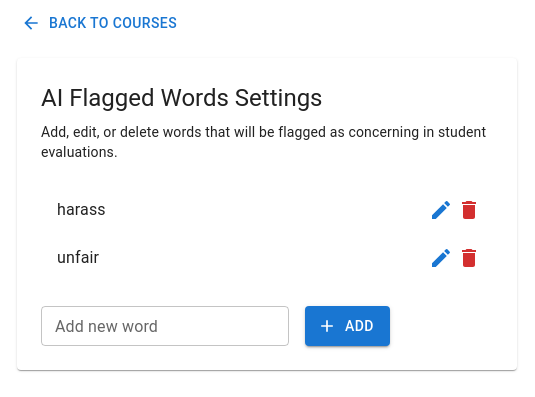
Scenario: Settings: flagged words › edits a word in place and saves it
The image size is (535, 397).
Expected: the text "unfair" is shown, [57,248,99,267]
Click the 4th button at (441, 258), box [421,238,461,278]
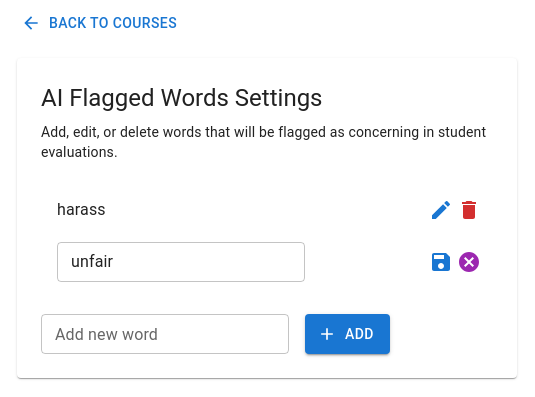
Replace the text in the field showing "unfair" with "unfairly" at (181, 262), box [57,242,305,282]
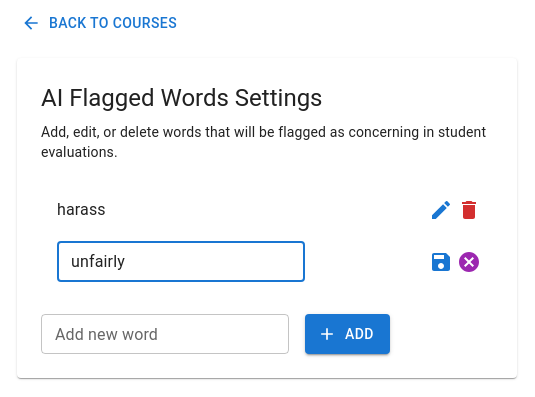
Click the 4th button at (441, 262), box [421,242,461,282]
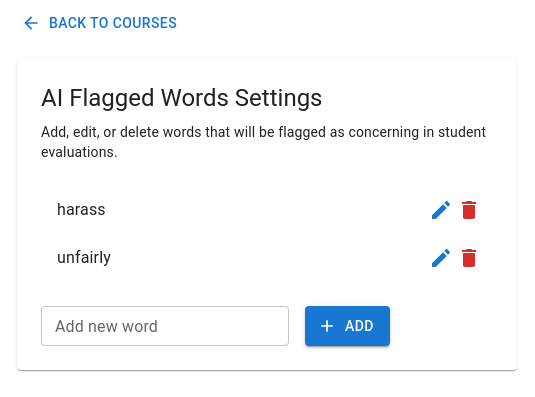
Expected: the text "unfairly" is shown, [57,248,111,267]
